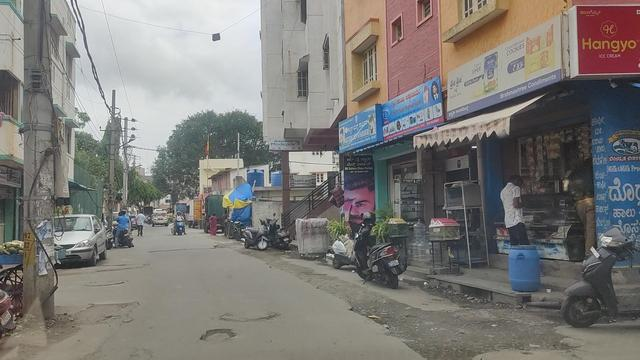LMV: (54, 208, 109, 274), (115, 207, 130, 253), (174, 211, 186, 237)
RoadDamages: (427, 334, 520, 360), (86, 299, 171, 325), (190, 258, 302, 275), (379, 308, 418, 339), (148, 244, 226, 254), (318, 273, 345, 291)
